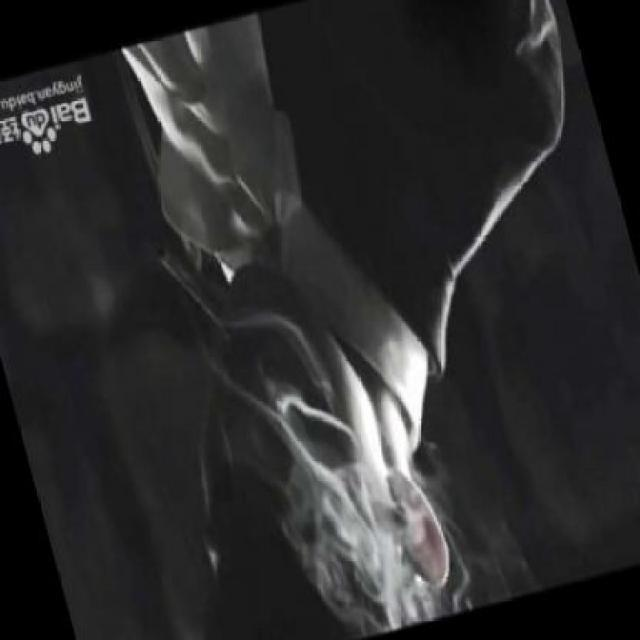smoke: (147, 224, 244, 358)
